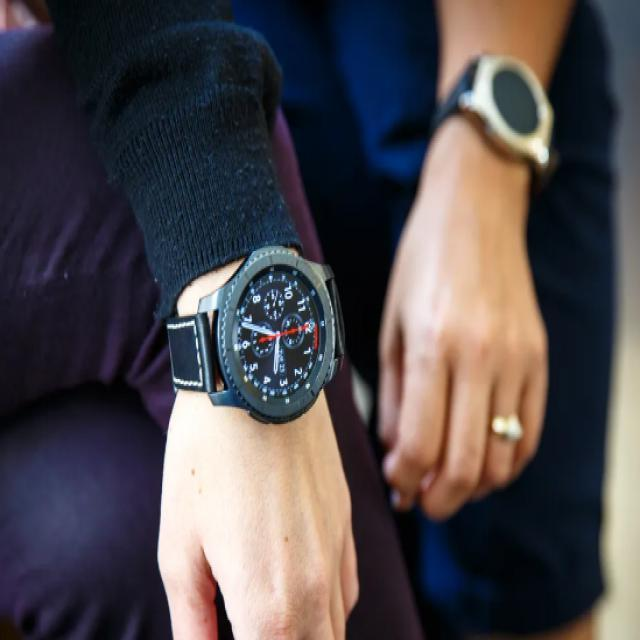Watch: (164, 242, 348, 424), (433, 48, 558, 168)
